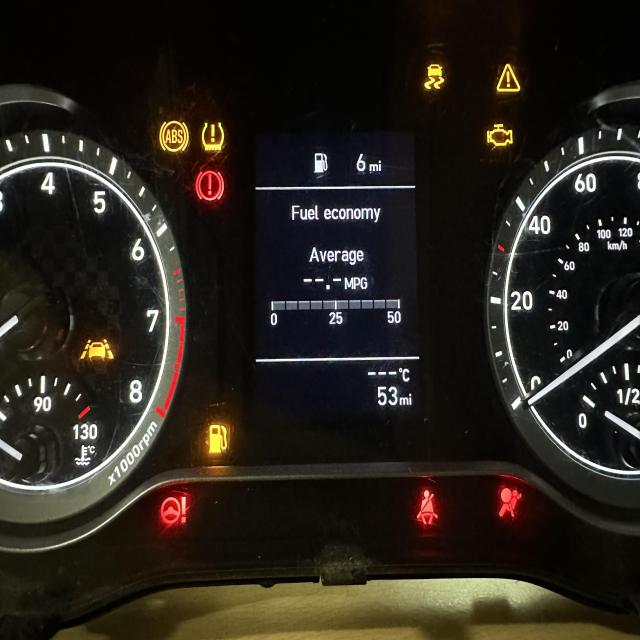ABS: (157, 114, 193, 158)
Airbag: (492, 478, 525, 522)
CriticalWarning: (494, 57, 522, 99)
EngineWarning: (484, 116, 516, 150)
HandBrakeWarning: (194, 164, 227, 204)
LowFuel: (205, 415, 234, 461)
PowerSteeringWarning: (155, 490, 191, 528)
SeatBeltWarning: (410, 484, 443, 528)
TractionControl: (422, 59, 447, 95)
TyrePressureLow: (200, 116, 227, 154)
